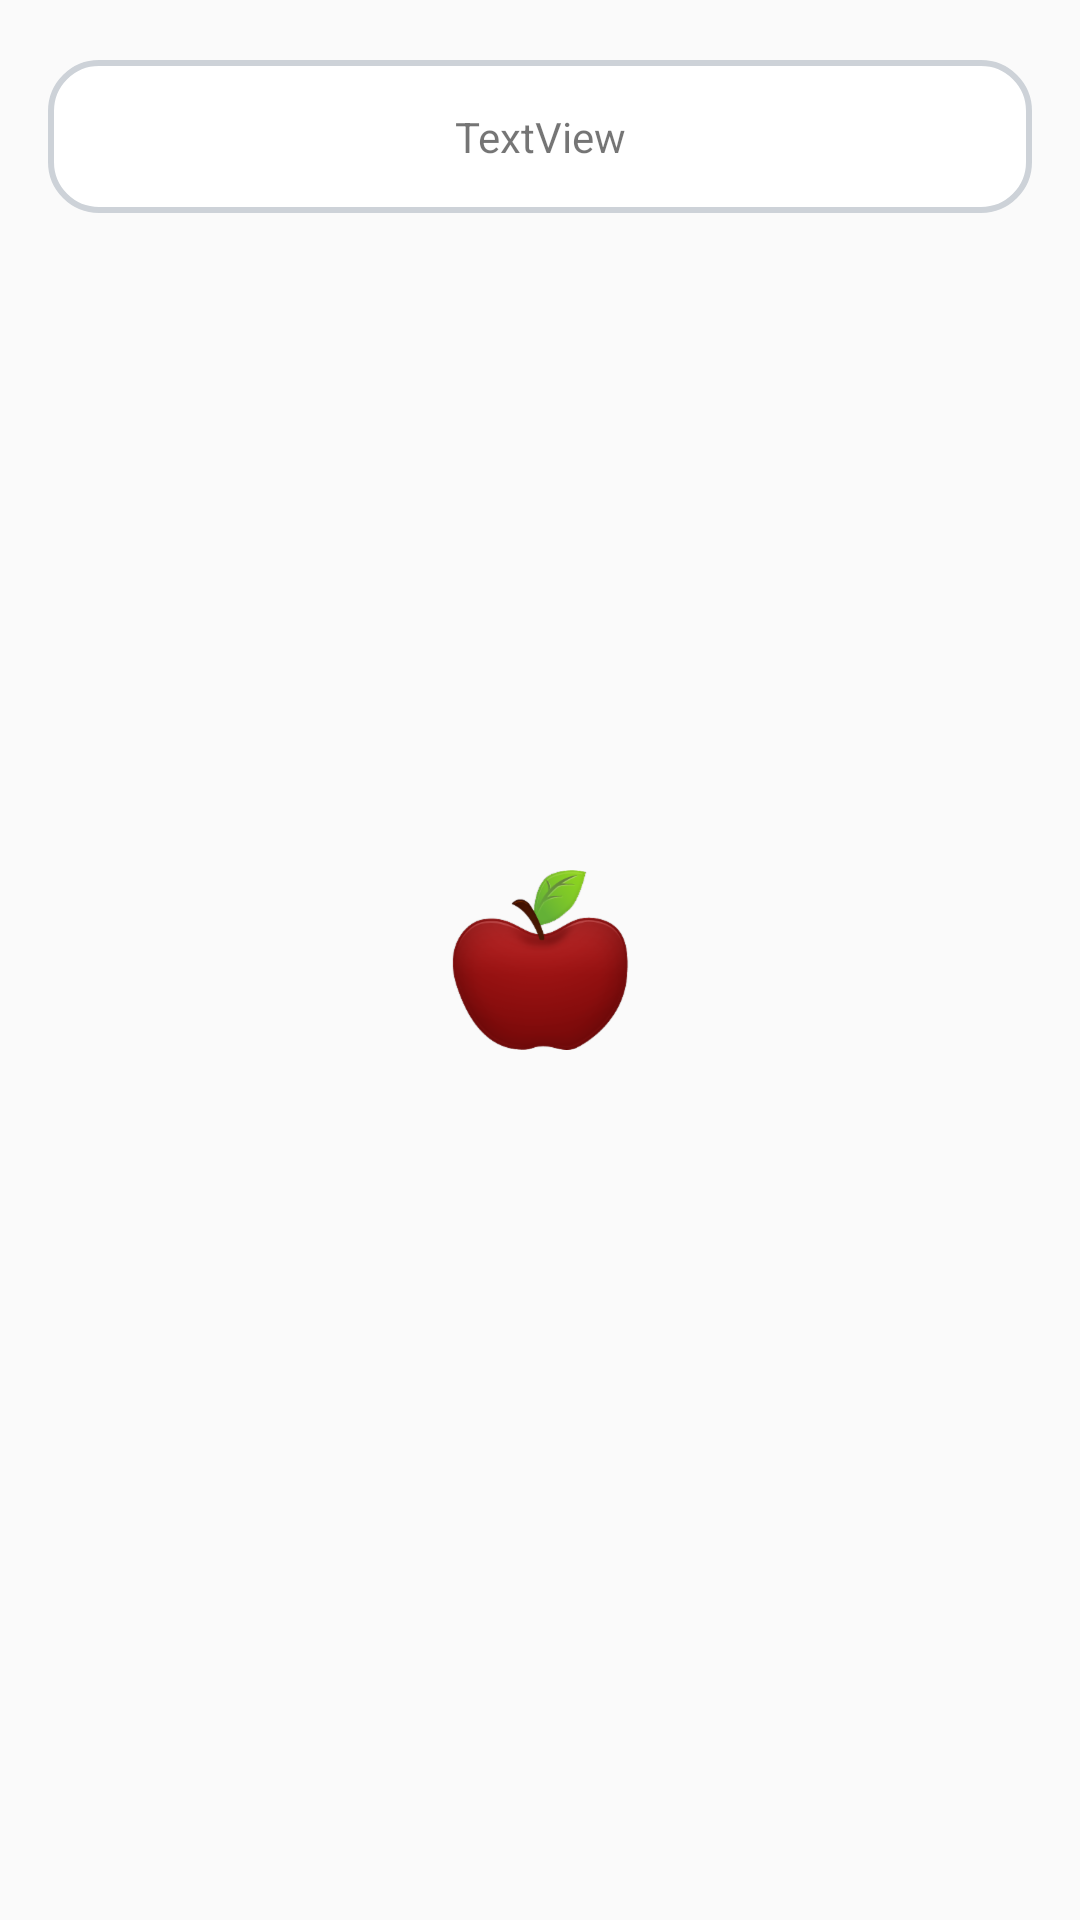

Screen size 1080px x 1920px. Icon name, then its box in pixels as (x1, y1, x2, y2):
apple: (452, 870, 628, 1050)
